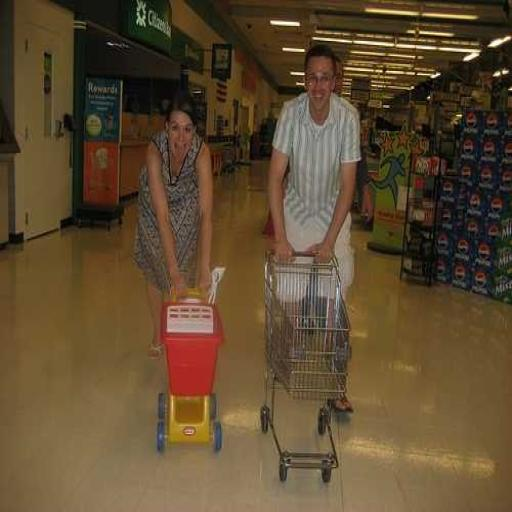shopping_cart: (259, 248, 353, 490), (157, 286, 223, 452)
